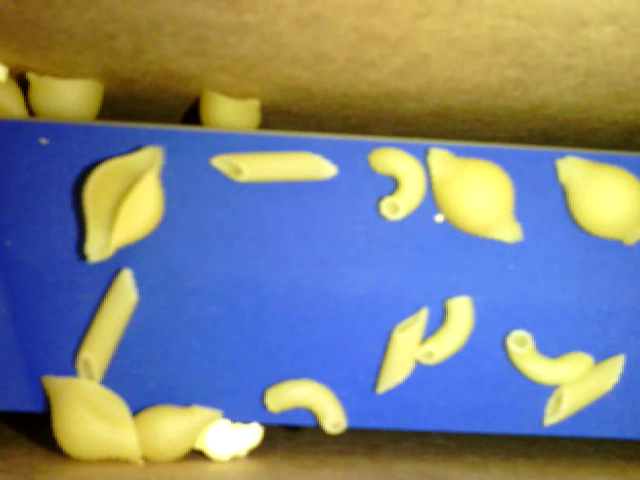elbow: (505, 330, 595, 387), (366, 144, 427, 224), (264, 377, 347, 434), (417, 294, 474, 367)
penne: (75, 267, 139, 387), (545, 354, 625, 426), (373, 305, 430, 398), (210, 149, 338, 184)
shell: (81, 144, 165, 264), (426, 146, 522, 243), (41, 374, 142, 462), (553, 155, 639, 244), (135, 403, 223, 462), (24, 72, 105, 120), (199, 88, 260, 132)
